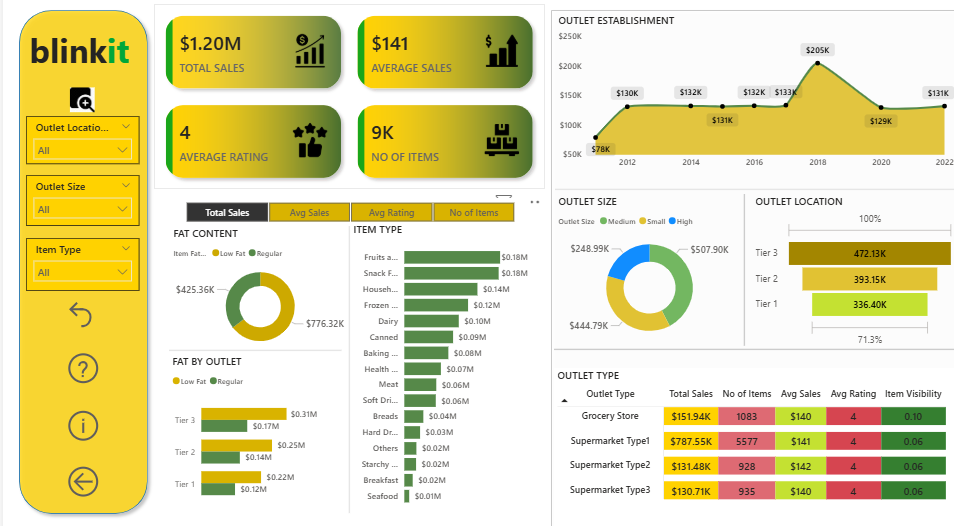

What the dashboard file says about the page in this screenshot:
{"tool":"powerbi","page":{"name":"Page 1","canvas":[1400,800],"ordinal":0},"visuals":[{"type":"shape","box":[14.4,24,204.8,750.4],"z":0},{"type":"textbox","box":[33.6,54.4,164.8,86.4],"z":1000},{"type":"cardVisual","fields":{"Data":["BlinkIT Grocery Data.Total Sales","BlinkIT Grocery Data.Avg Sales","BlinkIT Grocery Data.Avg Rating","BlinkIT Grocery Data.No of Items"]},"box":[219.2,24,569.6,270.4],"z":2000},{"type":"shape","box":[788.8,24,611.2,776],"z":3000},{"type":"donutChart","title":" FAT CONTENT","fields":{"Y":["BlinkIT Grocery Data.Total Sales"],"Category":["BlinkIT Grocery Data.Item Fat Content"]},"box":[243.2,347.2,262.4,187.2],"z":4000},{"type":"slicer","fields":{"Values":["Metrics.Metrics"]},"box":[241.6,307.2,526.4,40],"z":5000},{"type":"clusteredBarChart","title":"FAT BY OUTLET","fields":{"Y":["BlinkIT Grocery Data.Total Sales"],"Category":["BlinkIT Grocery Data.Outlet Location Type"],"Series":["BlinkIT Grocery Data.Item Fat Content"]},"box":[241.6,534.4,220.8,230.4],"z":6000},{"type":"shape","box":[241.6,521.6,251.2,12.8],"z":7000},{"type":"shape","box":[497.6,347.2,12.8,417.6],"z":8000},{"type":"barChart","title":"ITEM TYPE","fields":{"Y":["BlinkIT Grocery Data.Total Sales"],"Category":["BlinkIT Grocery Data.Item Type"]},"box":[504,342.4,264,422.4],"z":9000},{"type":"lineChart","title":" OUTLET ESTABLISHMENT","fields":{"Y":["BlinkIT Grocery Data.Total Sales"],"Category":["BlinkIT Grocery Data.Outlet Establishment Year"]},"box":[803.2,38.4,585.6,235.2],"z":10000},{"type":"shape","box":[803.2,288,585.6,12.8],"z":11000},{"type":"donutChart","title":"OUTLET SIZE","fields":{"Y":["BlinkIT Grocery Data.Total Sales"],"Category":["BlinkIT Grocery Data.Outlet Size"]},"box":[803.2,300.8,275,225],"z":12000},{"type":"funnel","title":"OUTLET LOCATION","fields":{"Y":["Sum(BlinkIT Grocery Data.Sales)"],"Category":["BlinkIT Grocery Data.Outlet Location Type"]},"box":[1089.6,300.8,299.2,227.2],"z":13000},{"type":"shape","box":[1072,300.8,12.8,220.8],"z":14000},{"type":"shape","box":[801.6,520,585.6,12.8],"z":15000},{"type":"pivotTable","title":"OUTLET TYPE","fields":{"Rows":["BlinkIT Grocery Data.Outlet Type"],"Values":["BlinkIT Grocery Data.Total Sales","BlinkIT Grocery Data.No of Items","BlinkIT Grocery Data.Avg Sales","BlinkIT Grocery Data.Avg Rating","Avg(BlinkIT Grocery Data.Item Visibility)"]},"box":[801.6,553.6,584,233.6],"z":16000},{"type":"slicer","fields":{"Values":["BlinkIT Grocery Data.Outlet Location Type"]},"box":[33.6,187.2,164.8,70.4],"z":17000},{"type":"slicer","fields":{"Values":["BlinkIT Grocery Data.Outlet Size"]},"box":[33.6,273.6,164.8,73.6],"z":18000},{"type":"slicer","fields":{"Values":["BlinkIT Grocery Data.Item Type"]},"box":[33.6,364.8,164.8,76.8],"z":19000},{"type":"actionButton","box":[88,689.6,56,60.8],"z":20000},{"type":"image","box":[68.8,140.8,94.4,46.4],"z":21000},{"type":"actionButton","box":[88,585.6,56,104],"z":22000},{"type":"actionButton","box":[88,452.8,56,48],"z":23000},{"type":"actionButton","box":[88,526.4,56,56],"z":24000}]}

Visuals, with their boxes on the page's 1400x800 design canvas (x1, y1, x2, y2). These are canvas units, not pixel positions in the 954x526 screenshot, which may show the page scaled, cropped or inside an application window:
shape: (14, 24, 219, 774)
textbox: (34, 54, 198, 141)
cardVisual - BlinkIT Grocery Data.Total Sales x BlinkIT Grocery Data.Avg Sales: (219, 24, 789, 294)
shape: (789, 24, 1400, 800)
" FAT CONTENT" donutChart: (243, 347, 506, 534)
slicer - Metrics.Metrics: (242, 307, 768, 347)
"FAT BY OUTLET" clusteredBarChart: (242, 534, 462, 765)
shape: (242, 522, 493, 534)
shape: (498, 347, 510, 765)
"ITEM TYPE" barChart: (504, 342, 768, 765)
" OUTLET ESTABLISHMENT" lineChart: (803, 38, 1389, 274)
shape: (803, 288, 1389, 301)
"OUTLET SIZE" donutChart: (803, 301, 1078, 526)
"OUTLET LOCATION" funnel: (1090, 301, 1389, 528)
shape: (1072, 301, 1085, 522)
shape: (802, 520, 1387, 533)
"OUTLET TYPE" pivotTable: (802, 554, 1386, 787)
slicer - BlinkIT Grocery Data.Outlet Location Type: (34, 187, 198, 258)
slicer - BlinkIT Grocery Data.Outlet Size: (34, 274, 198, 347)
slicer - BlinkIT Grocery Data.Item Type: (34, 365, 198, 442)
actionButton: (88, 690, 144, 750)
image: (69, 141, 163, 187)
actionButton: (88, 586, 144, 690)
actionButton: (88, 453, 144, 501)
actionButton: (88, 526, 144, 582)
